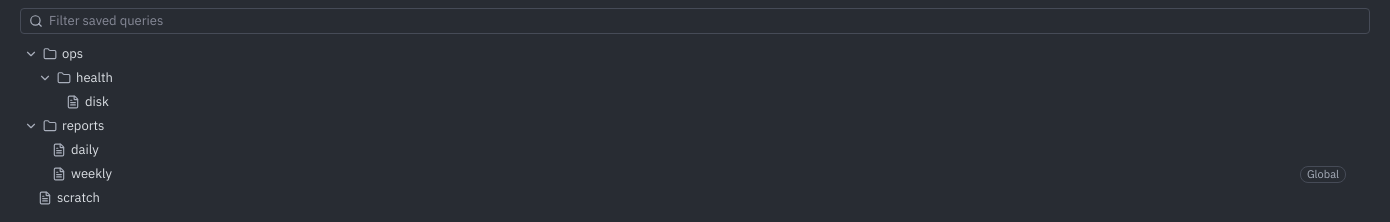
Test: QueryLibrary › collapses and expands folders
Step 1. Click the list item "reports" → (83, 125), box x1=12 y1=114 x2=1378 y2=138
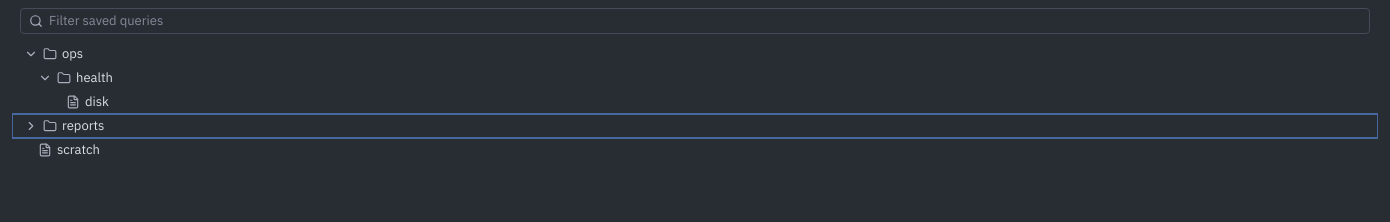
Expected: the list item "daily" is gone
Step 2. Click the list item "reports" → (83, 125), box x1=12 y1=114 x2=1378 y2=138
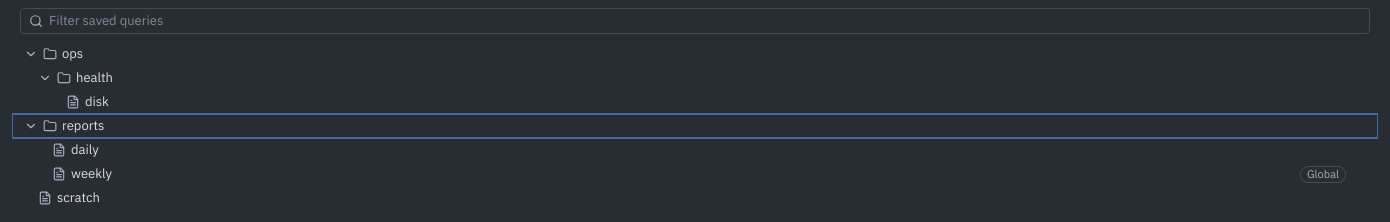
Expected: the text "daily" is shown, x1=71 y1=141 x2=99 y2=159
